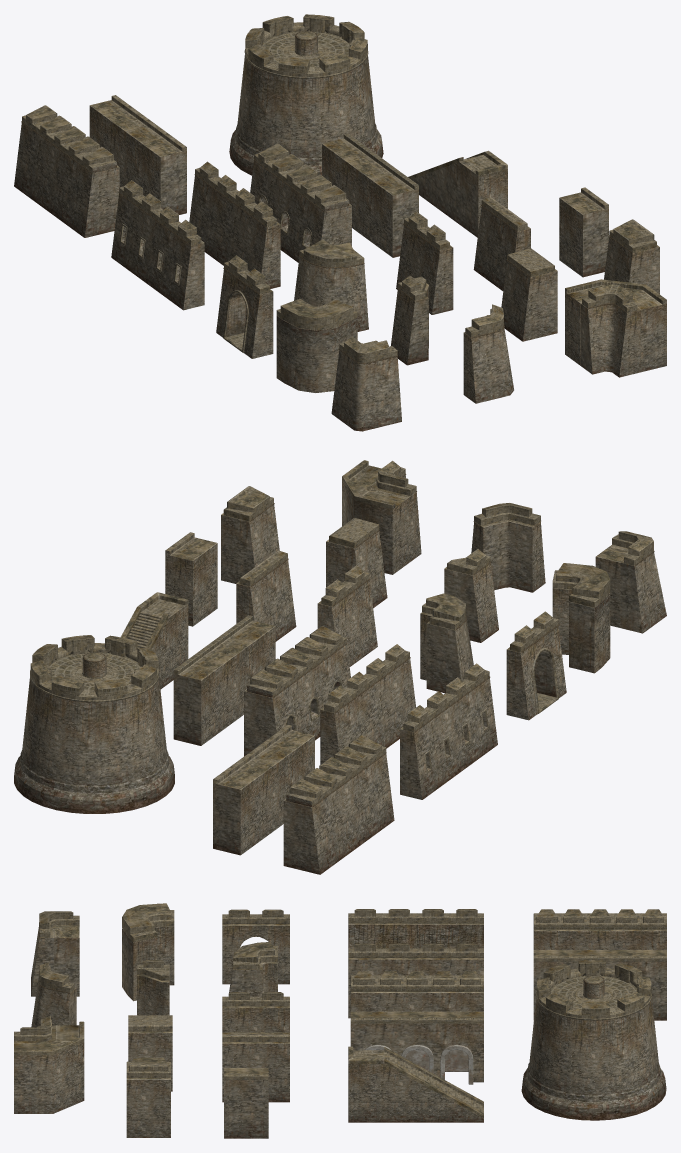
The model's file is fort.gltf.
The picture shows the model from 3 angles, top to bottom: view 1: azimuth 30°, elevation 25°; view 2: azimuth 150°, elevation 25°; view 3: azimuth 270°, elevation 25°; orthographic projection. The views are drawn at different scales.
Parts seen in each view (by area): view 1: modular_fort_01_wall_thick_corner_02; view 2: modular_fort_01_wall_thick_corner_02; view 3: modular_fort_01_wall_thick_corner_02, modular_fort_01_wall_walkway_straight_01.
Boxes of the visible parts, x1,y1,x2,y2 form: modular_fort_01_wall_thick_corner_02: (14,14,666,431); modular_fort_01_wall_thick_corner_02: (14,460,666,874); modular_fort_01_wall_thick_corner_02: (14,903,666,1138); modular_fort_01_wall_walkway_straight_01: (365,1045,473,1084).
Bounding box in the file's own units: 42.67 × 13.67 × 71.38.
3 materials, 3 textured.
